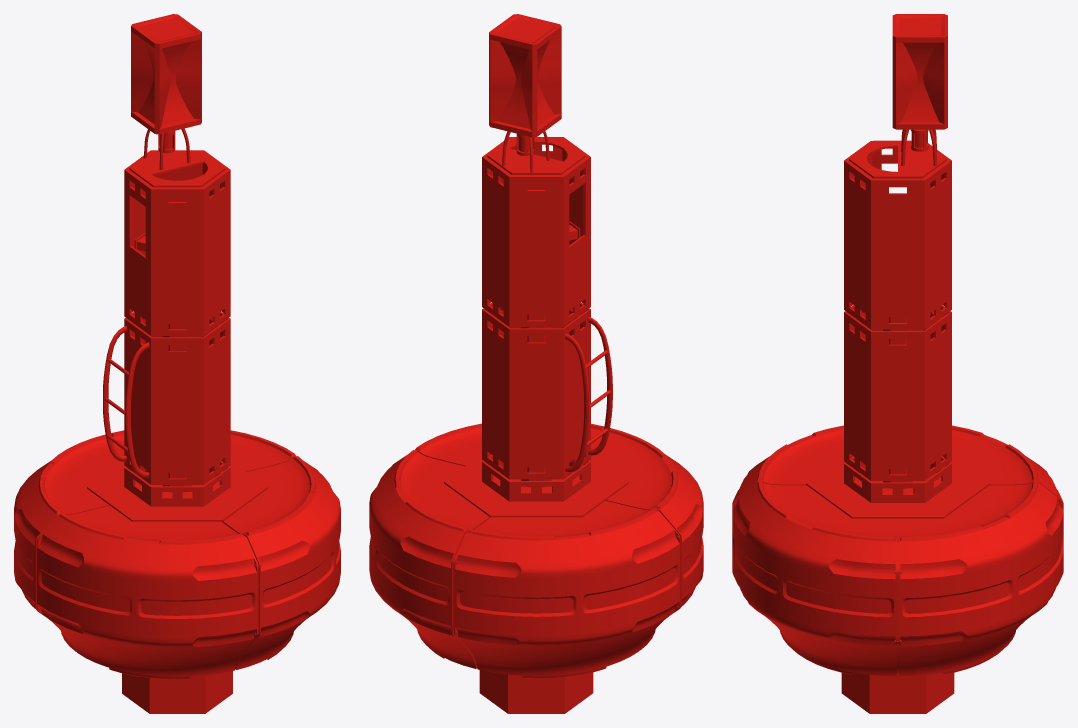
File: bouy.glb
3 renders of one model, left to right at view 1: azimuth 30°, elevation 25°; view 2: azimuth 150°, elevation 25°; view 3: azimuth 270°, elevation 25°, orthographic. The views are drawn at different scales.
Parts seen in each view (by area): view 1: 3000 Lateral Buoy; view 2: 3000 Lateral Buoy; view 3: 3000 Lateral Buoy.
Boxes of the visible parts, <box> form: 3000 Lateral Buoy: <box>14,14,340,713</box>; 3000 Lateral Buoy: <box>369,14,703,713</box>; 3000 Lateral Buoy: <box>732,14,1063,713</box>.
Bounding box in the file's own units: 3 × 6.84 × 3.
